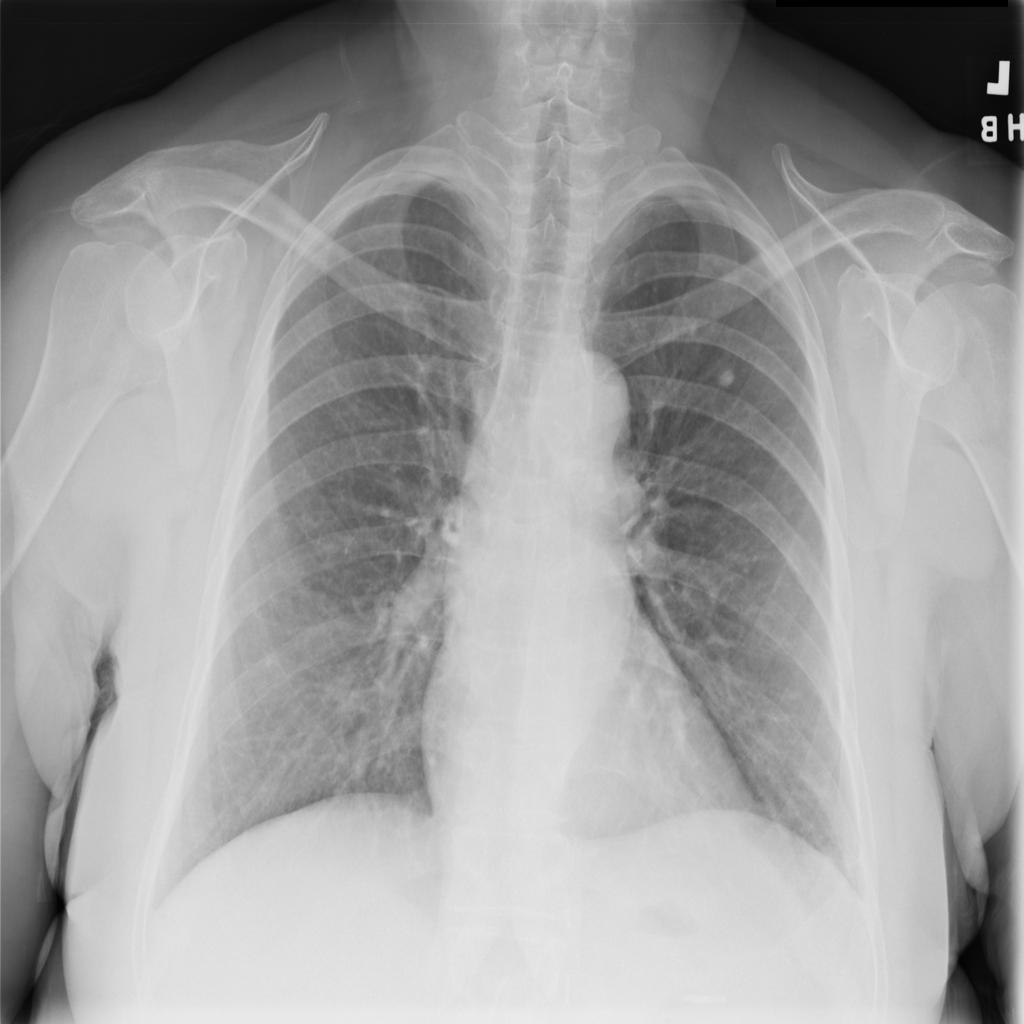nodule: (708, 354, 742, 396)
